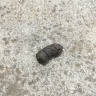Dog: (36, 43, 63, 64)
